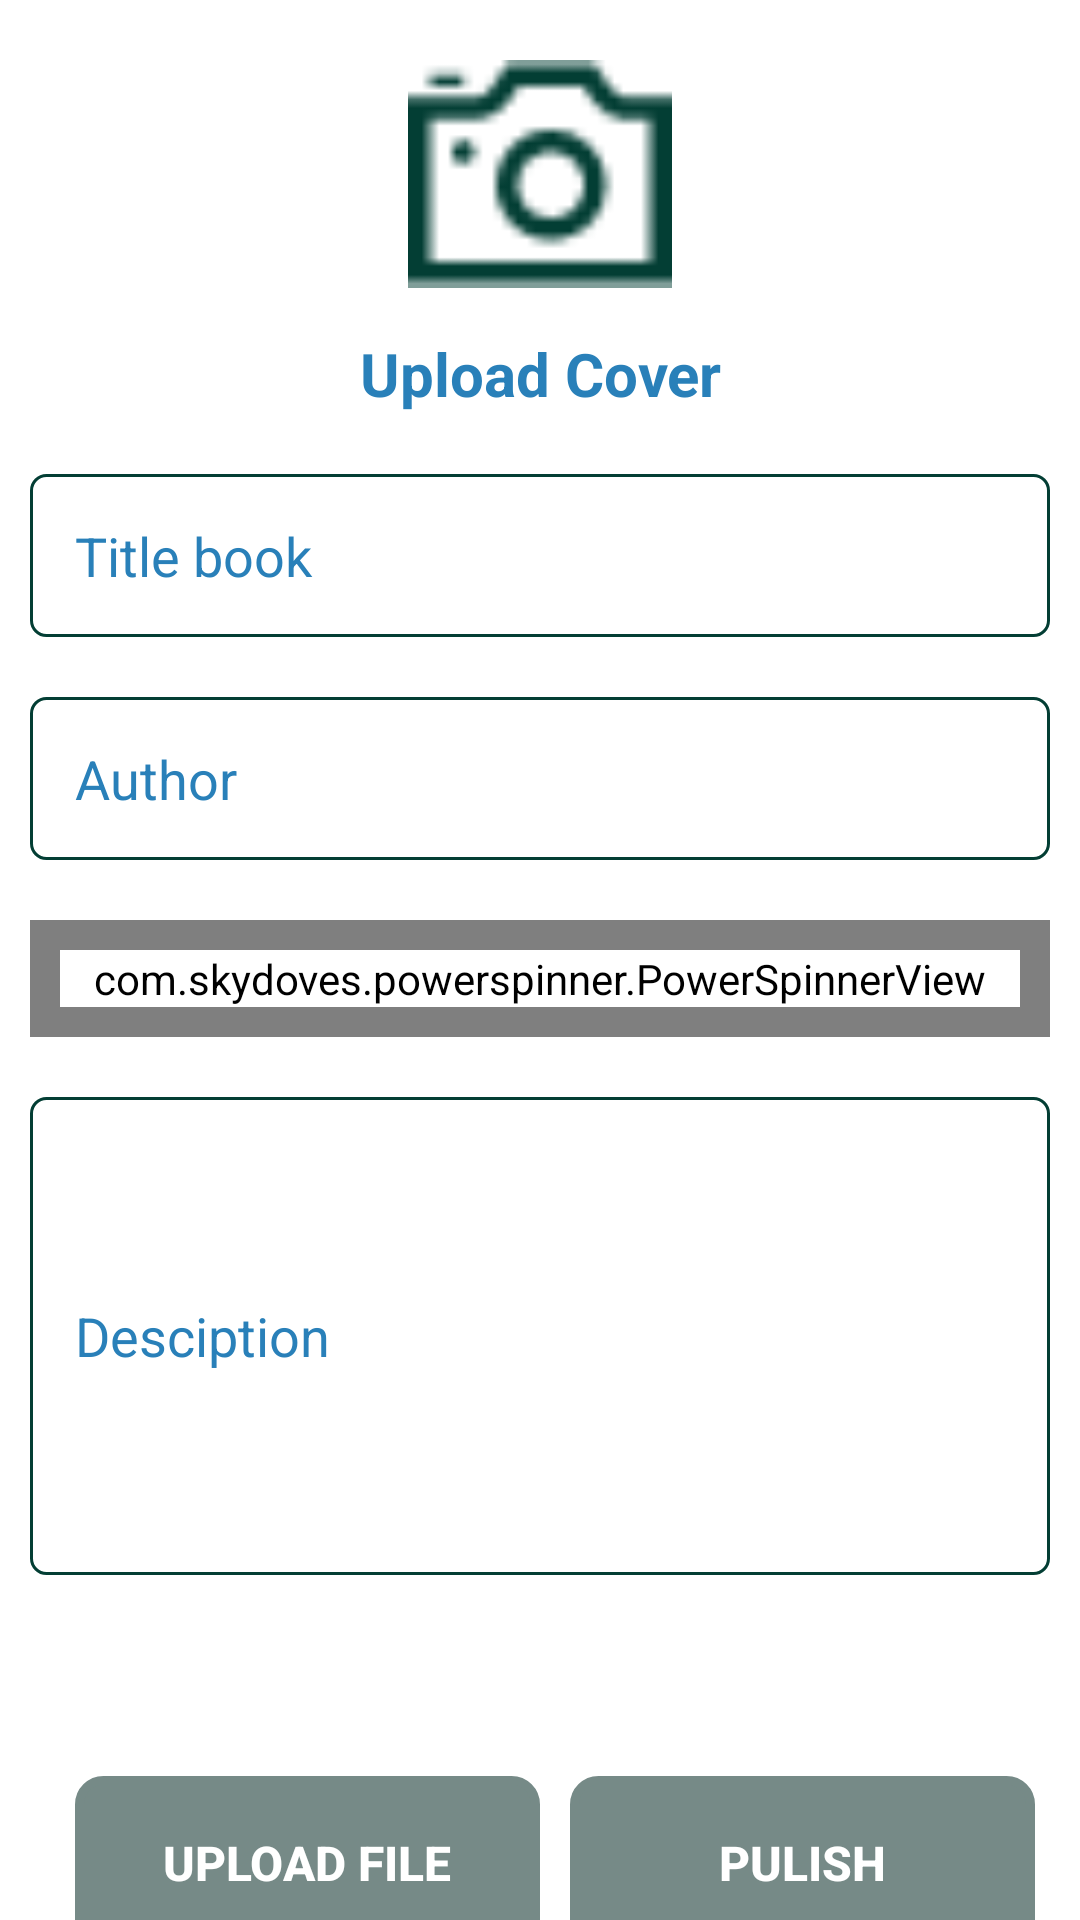

Point at icon controls on the screen. Image size 1080×1920, points as (x,y).
camera: (540,174)
